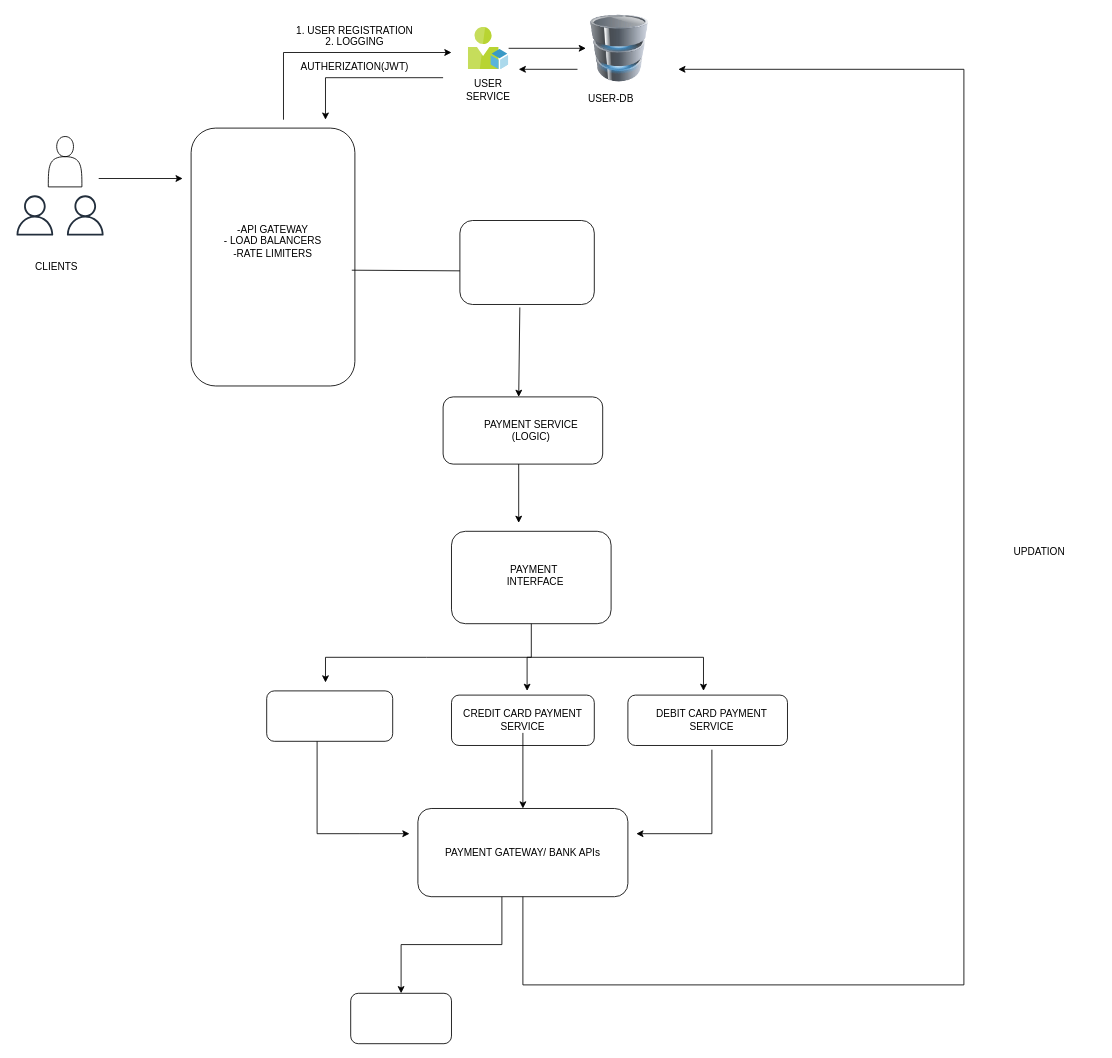
This 1112x1058 diagram has some shape labels left out. The centre of each missing label's shape, as x and y in pixels:
"NOTIFICATION SERVICE" belongs at point (401, 1018).
"PAYMENT CONTROLLER (REST APIs)" belongs at point (526, 262).
"UPI PAYMENT SERVICE" belongs at point (329, 715).
